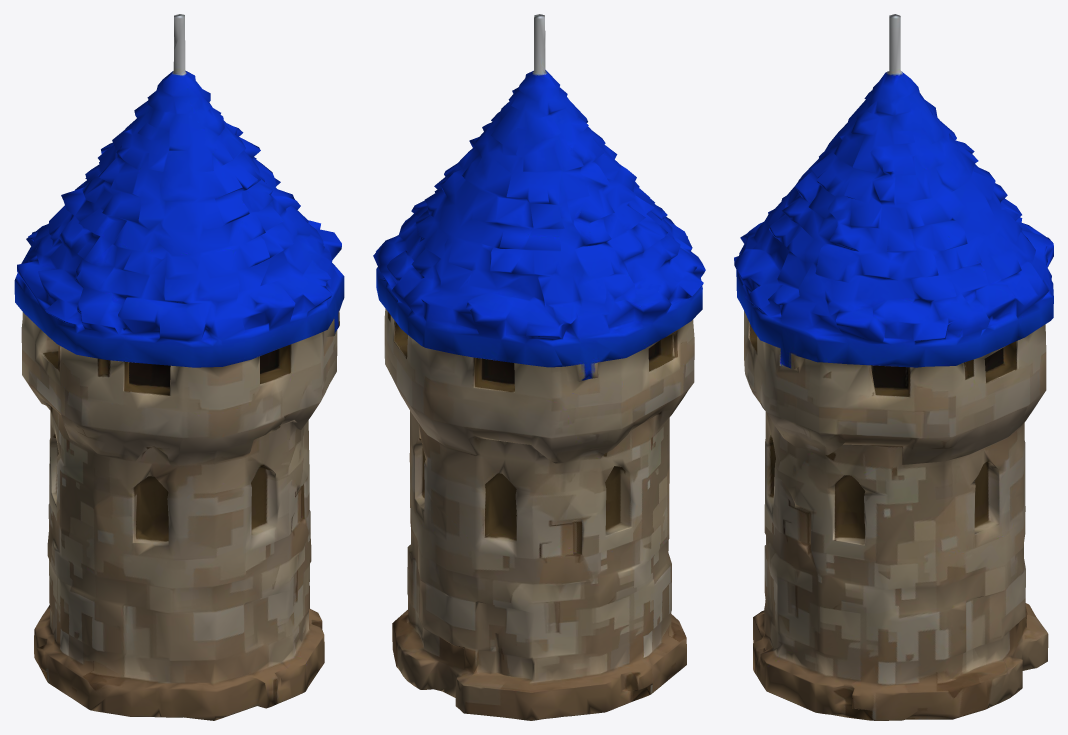
The model's file is castle_tower.glb.
3 renders of one model, left to right at view 1: azimuth 30°, elevation 25°; view 2: azimuth 150°, elevation 25°; view 3: azimuth 270°, elevation 25°, orthographic.
Parts seen in each view (by area): view 1: tripo_node_f9440de3-d592-4c93-b2c0-2dfcbd74f000; view 2: tripo_node_f9440de3-d592-4c93-b2c0-2dfcbd74f000; view 3: tripo_node_f9440de3-d592-4c93-b2c0-2dfcbd74f000.
Boxes of the visible parts, <box> form: tripo_node_f9440de3-d592-4c93-b2c0-2dfcbd74f000: <box>14,14,344,720</box>; tripo_node_f9440de3-d592-4c93-b2c0-2dfcbd74f000: <box>373,14,705,720</box>; tripo_node_f9440de3-d592-4c93-b2c0-2dfcbd74f000: <box>734,14,1053,720</box>.
Bounding box in the file's own units: 0.4689 × 1 × 0.4493.
Materials: 1 (1 with a texture image).
